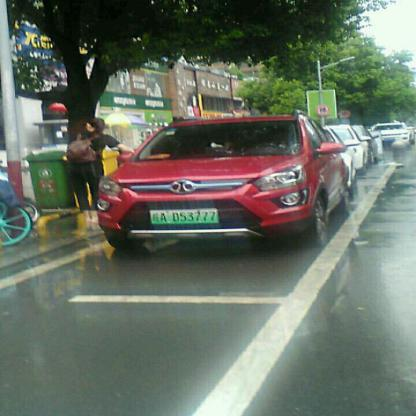lp: (150, 207, 217, 223)
